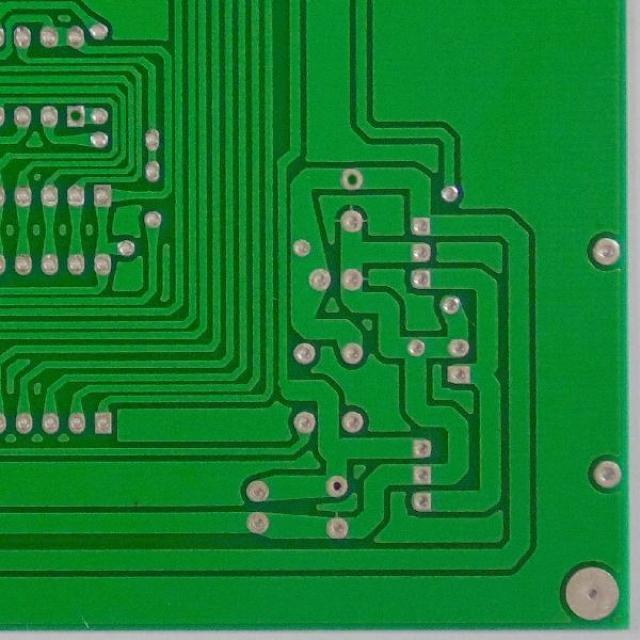Missing_Hole: (338, 166, 364, 192), (322, 474, 347, 497), (64, 104, 86, 129)
